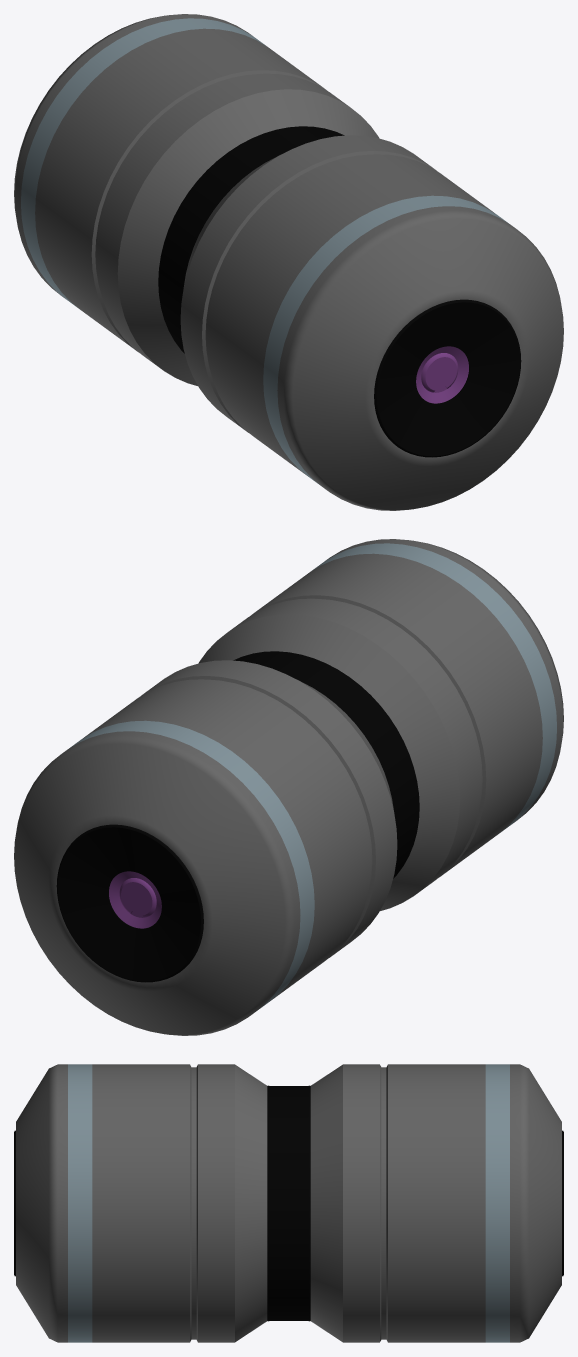
The model's file is env_building_tank_lod0.fbx.
3 renders of one model, top to bottom at view 1: azimuth 30°, elevation 25°; view 2: azimuth 150°, elevation 25°; view 3: azimuth 270°, elevation 25°, orthographic. The views are drawn at different scales.
Visible parts, largest first — view 1: env_building_tank_lod0; view 2: env_building_tank_lod0; view 3: env_building_tank_lod0.
Boxes of the visible parts, x1=… form: env_building_tank_lod0: x1=14, y1=14, x2=563, y2=510; env_building_tank_lod0: x1=14, y1=539, x2=563, y2=1035; env_building_tank_lod0: x1=14, y1=1064, x2=563, y2=1342.
Size of the model in its own units: 247 by 247 by 489.
